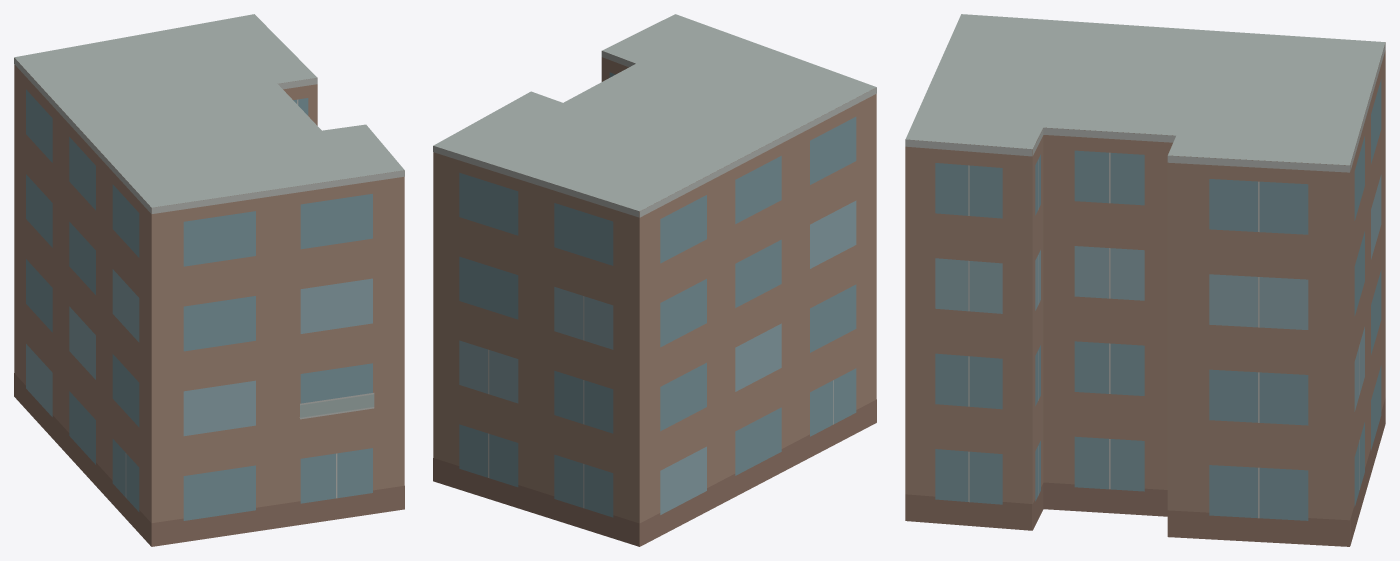
The model's file is survey-upis-32682927.glb.
The picture shows the model from 3 angles, left to right: view 1: azimuth 30°, elevation 25°; view 2: azimuth 150°, elevation 25°; view 3: azimuth 270°, elevation 25°; orthographic projection. The views are drawn at different scales.
Parts seen in each view (by area): view 1: survey-upis-32682927.tmp; view 2: survey-upis-32682927.tmp; view 3: survey-upis-32682927.tmp.
Boxes of the visible parts, bbox=[...] form: survey-upis-32682927.tmp: bbox=[14, 14, 404, 546]; survey-upis-32682927.tmp: bbox=[433, 14, 876, 546]; survey-upis-32682927.tmp: bbox=[905, 14, 1385, 546].
Size of the model in its own units: 10.9 by 12.8 by 14.61.
